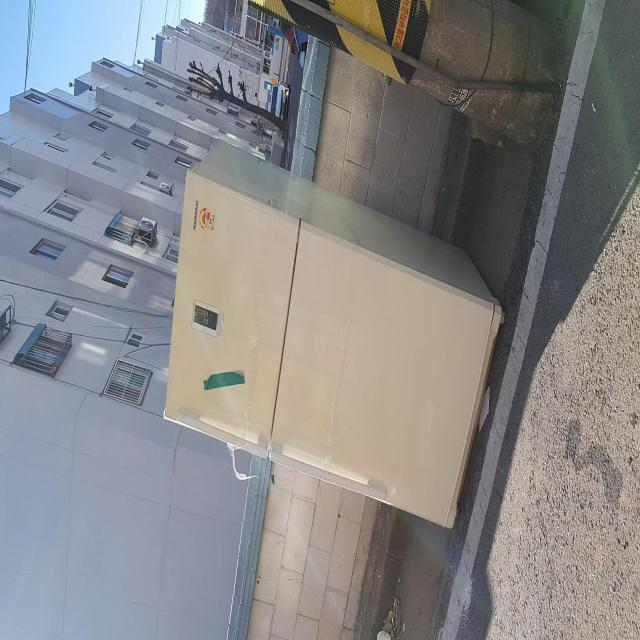refrigerator: (160, 138, 506, 529)
